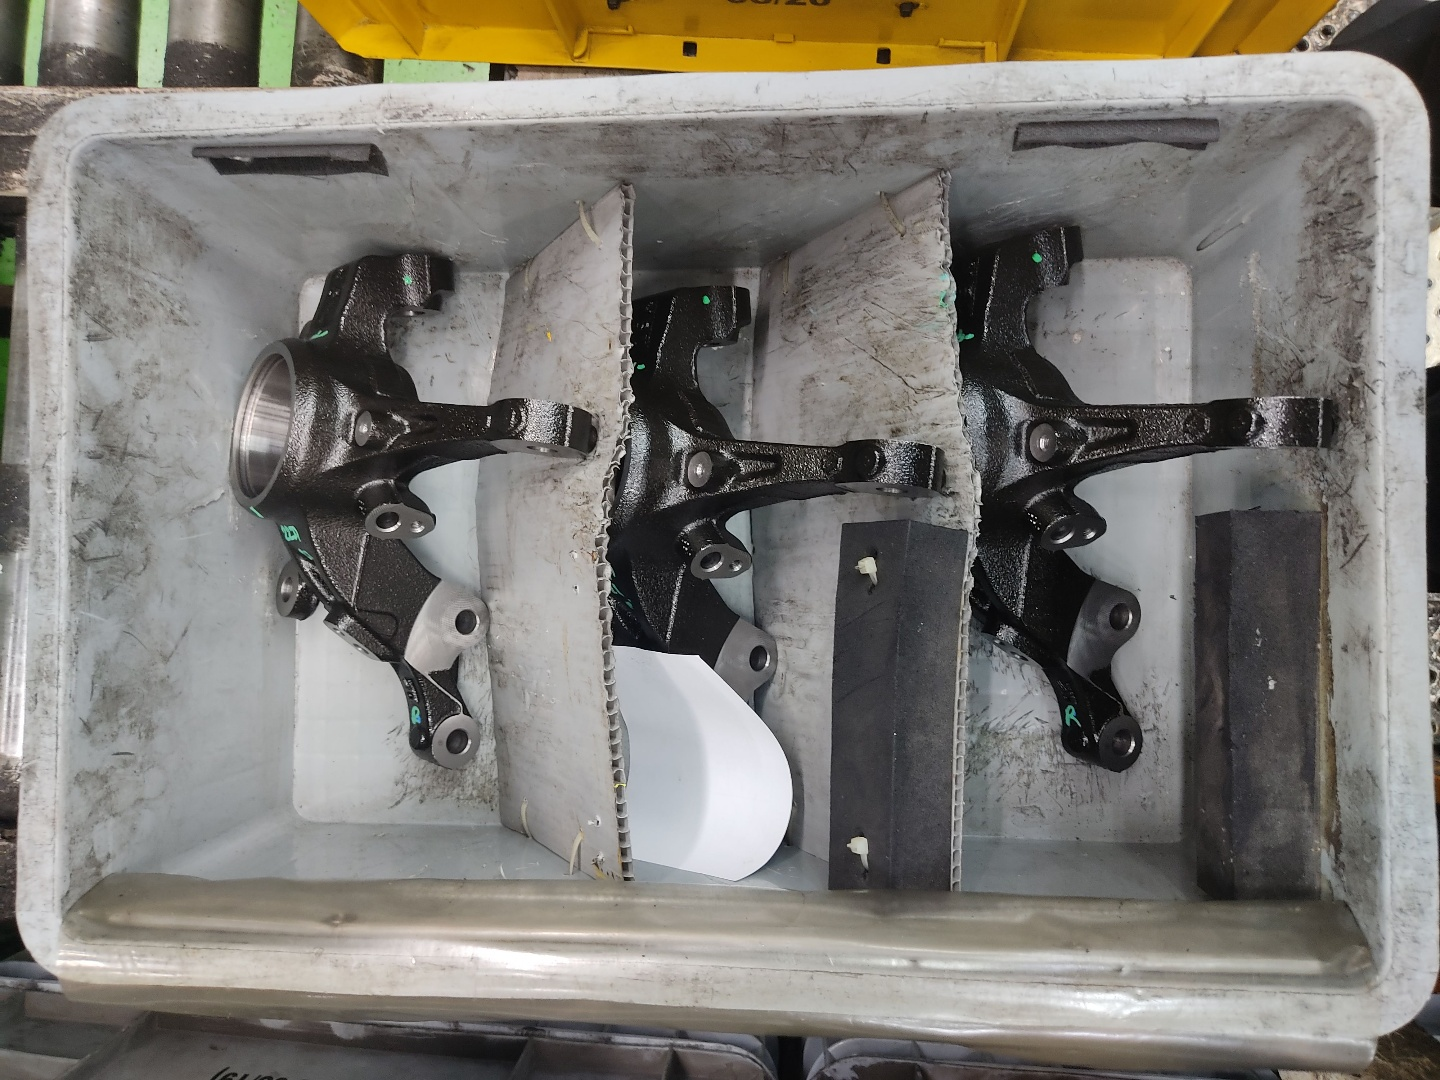abs-rh: (956, 217, 1346, 781), (225, 236, 605, 778), (618, 280, 952, 813)
